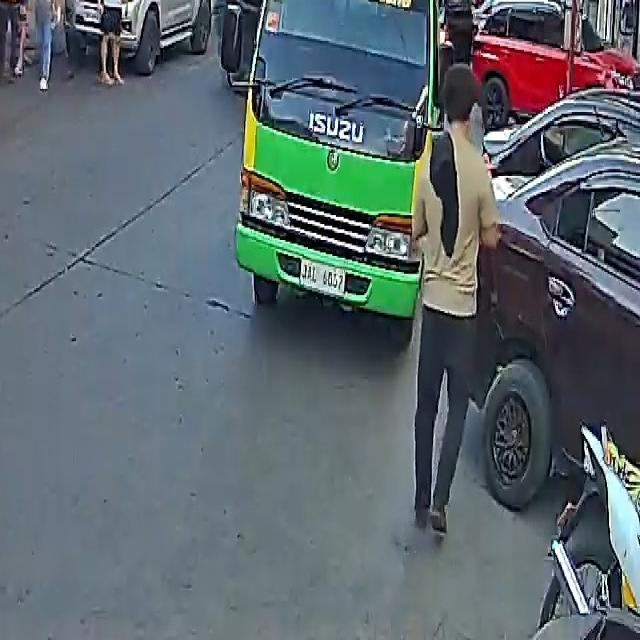car: (470, 145, 640, 516), (472, 0, 637, 133), (58, 0, 212, 73)
